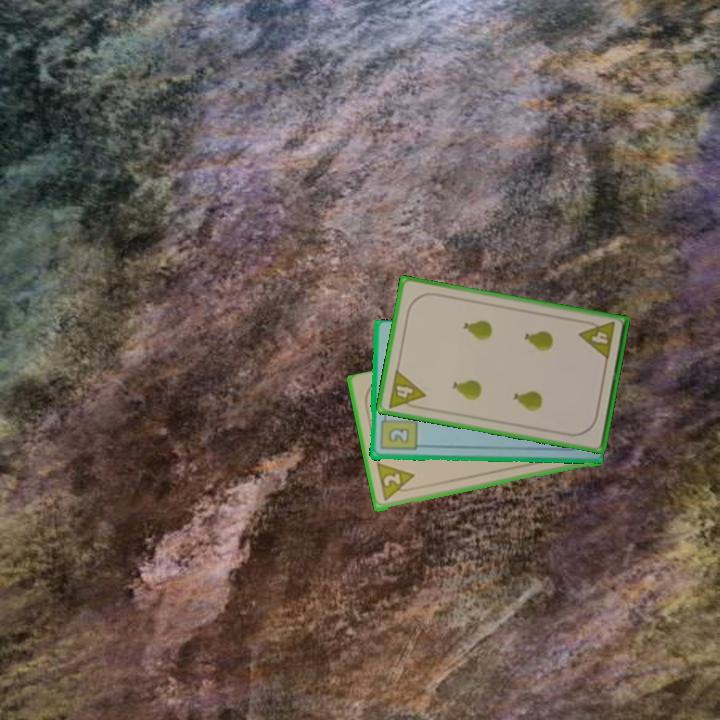2b: (377, 411, 419, 454)
2p: (373, 461, 419, 504)
4p: (384, 366, 428, 413), (576, 317, 618, 363)
